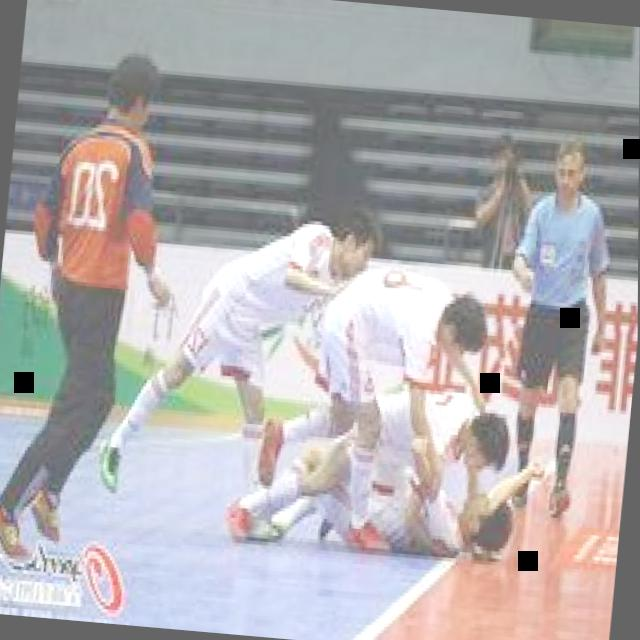Fall-Detected: (213, 368, 552, 565)
